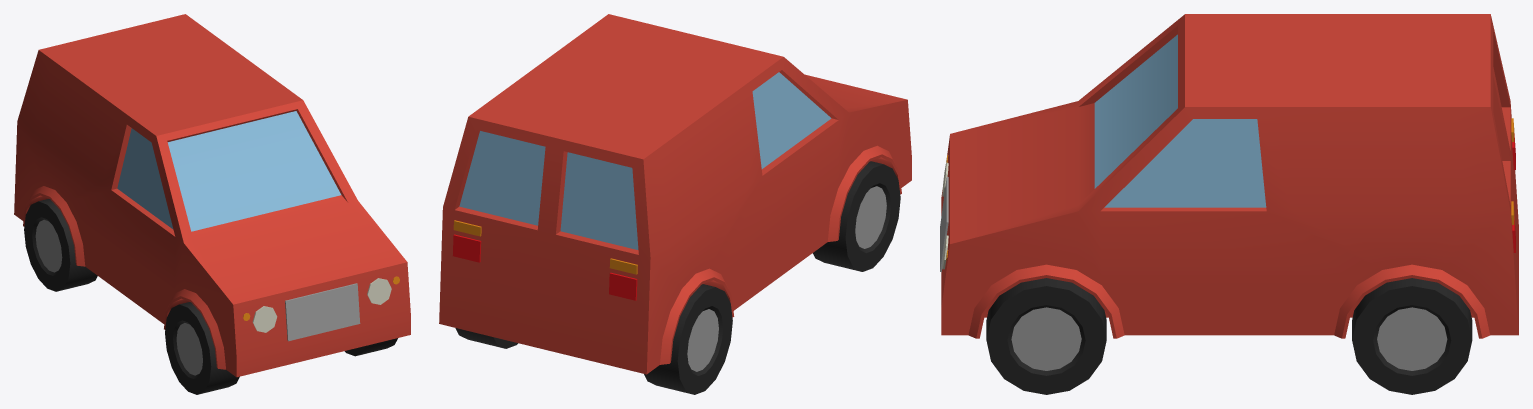
Rendered from car-microcargo-red.gltf.
3 views of the same model, side by side, from view 1: azimuth 30°, elevation 25°; view 2: azimuth 150°, elevation 25°; view 3: azimuth 270°, elevation 25° (orthographic). The views are drawn at different scales.
Parts seen in each view (by area): view 1: car-microcargo-red_Cube.620; view 2: car-microcargo-red_Cube.620; view 3: car-microcargo-red_Cube.620.
Boxes of the visible parts, bbox=[...] form: car-microcargo-red_Cube.620: bbox=[14, 14, 410, 394]; car-microcargo-red_Cube.620: bbox=[439, 14, 911, 394]; car-microcargo-red_Cube.620: bbox=[940, 14, 1518, 394].
Bounding box in the file's own units: 1.79 × 1.9 × 3.64.
